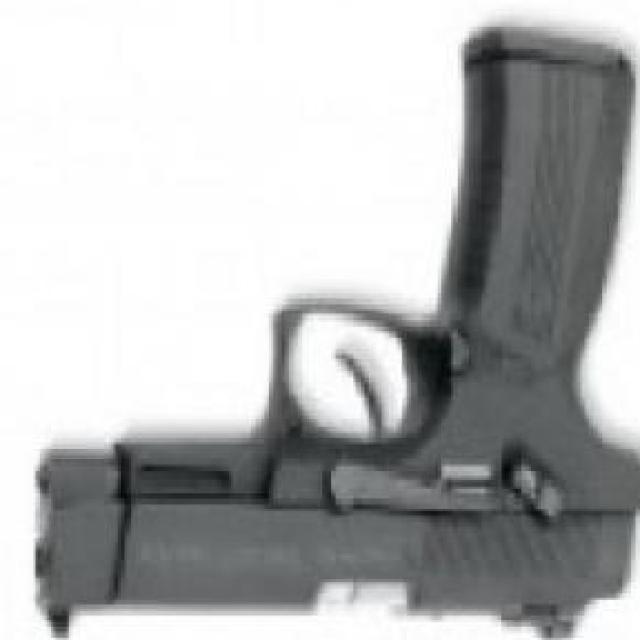pistol: (40, 20, 640, 640)
